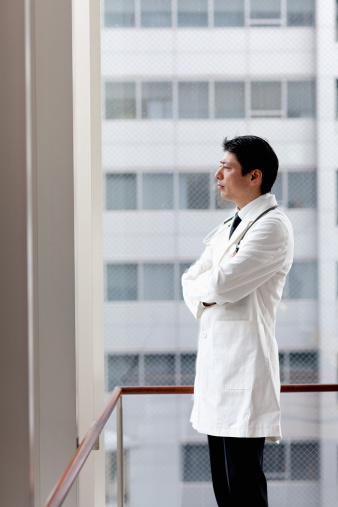em pe: (157, 125, 303, 507)
